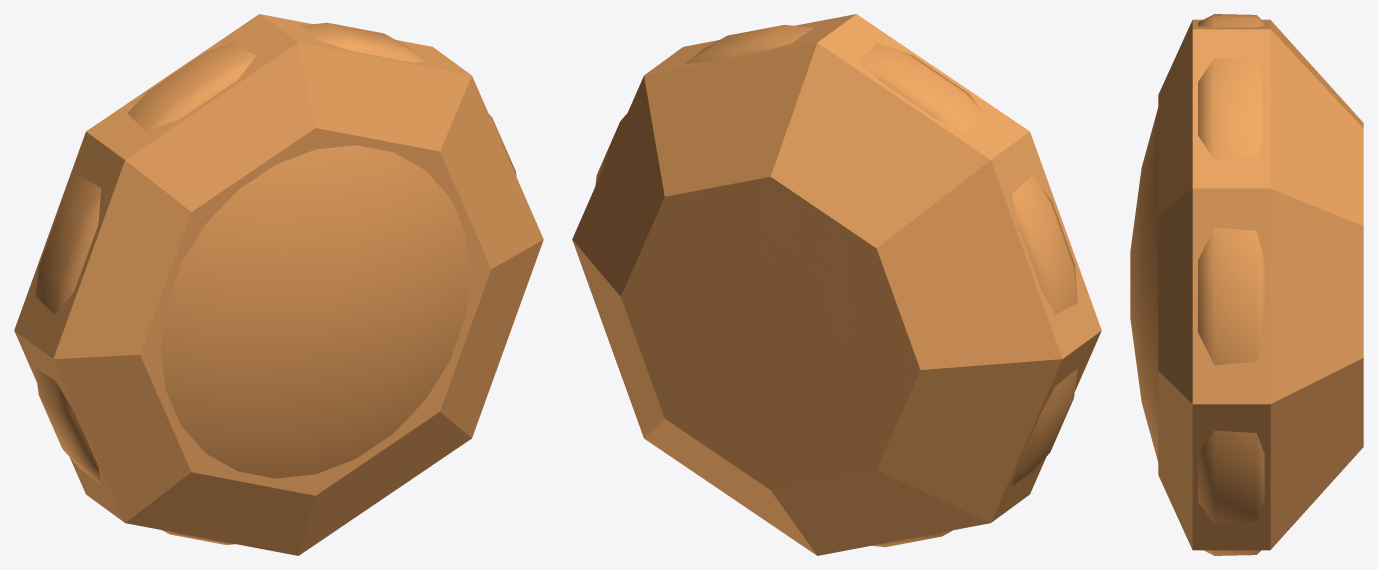
File: SM_roundMagnet.fbx
3 views of the same model, side by side, from view 1: azimuth 30°, elevation 25°; view 2: azimuth 150°, elevation 25°; view 3: azimuth 270°, elevation 25° (orthographic).
Parts seen in each view (by area): view 1: col_roundMagnet, sm_roundMagnet; view 2: col_roundMagnet, sm_roundMagnet; view 3: col_roundMagnet, sm_roundMagnet.
Boxes of the visible parts, x1,y1,x2,y2 form: col_roundMagnet: (14, 14, 543, 555); sm_roundMagnet: (35, 22, 516, 544); col_roundMagnet: (572, 14, 1101, 555); sm_roundMagnet: (595, 25, 1077, 547); col_roundMagnet: (1158, 19, 1363, 550); sm_roundMagnet: (1130, 14, 1264, 555).
Bounding box in the file's own units: 3.78 × 3.78 × 1.56.
